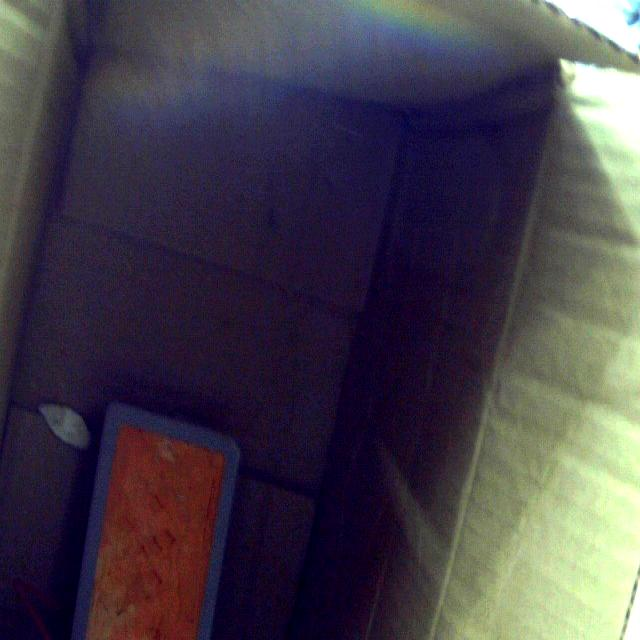block: (65, 399, 241, 640)
